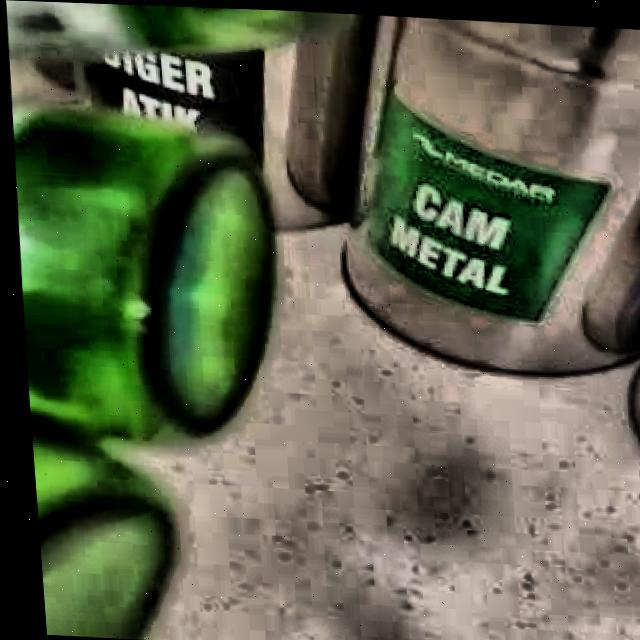glass: (10, 101, 270, 639)
